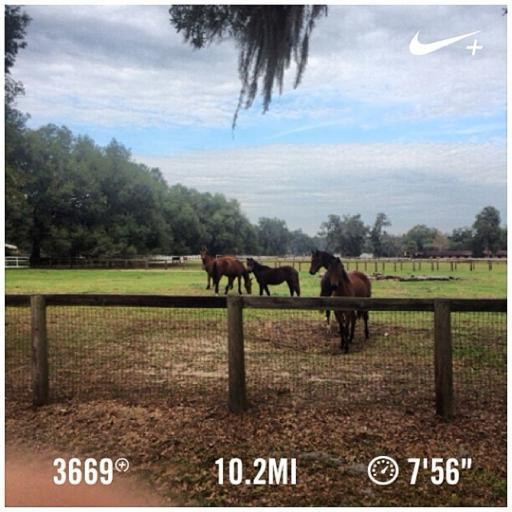horse: (324, 256, 374, 358), (308, 250, 348, 328), (248, 256, 301, 297), (210, 256, 256, 295), (198, 246, 236, 292)
